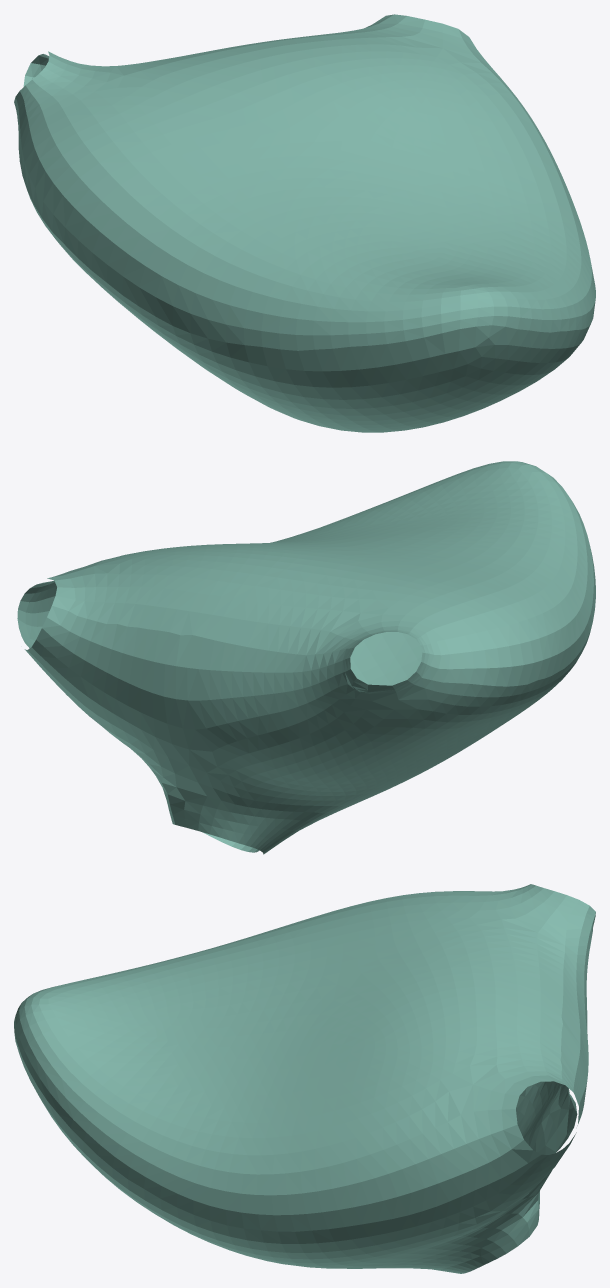
Rendered from bladder.glb.
The picture shows the model from 3 angles, top to bottom: view 1: azimuth 30°, elevation 25°; view 2: azimuth 150°, elevation 25°; view 3: azimuth 270°, elevation 25°; orthographic projection. The views are drawn at different scales.
Visible parts, largest first — view 1: bladder; view 2: bladder; view 3: bladder.
Boxes of the visible parts, left/top/right/bottom form: bladder: left=14, top=14, right=595, bottom=432; bladder: left=17, top=461, right=595, bottom=854; bladder: left=14, top=884, right=595, bottom=1273.
Size of the model in its own units: 0.0638 by 0.0399 by 0.0723.
